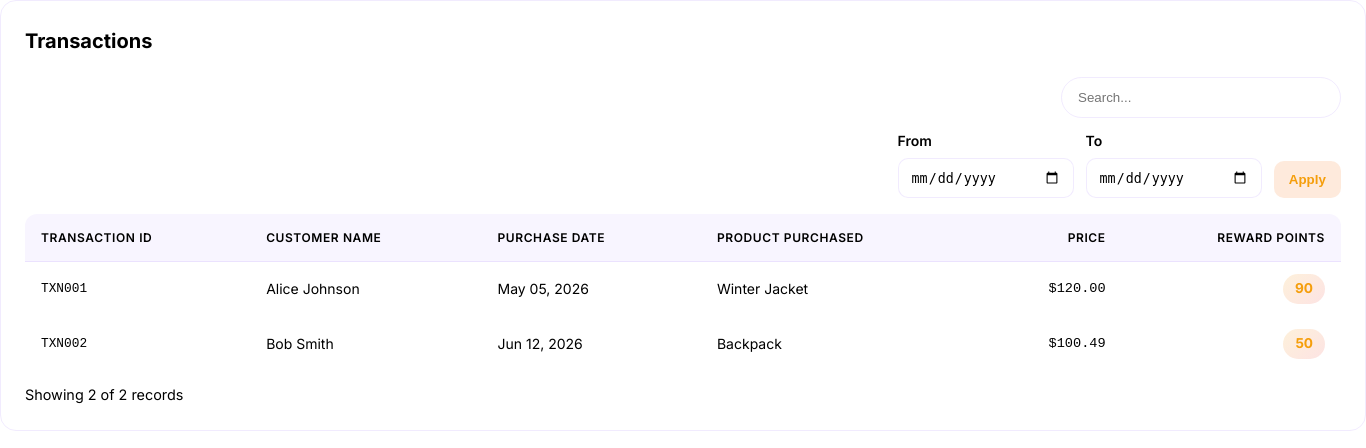
Test: TransactionsTable › clears the selected date range and restores all transactions
Type "2026-05-01" into the date field named "from date".
click(986, 178); type("2026-05-01")  # box [898, 158, 1074, 198]
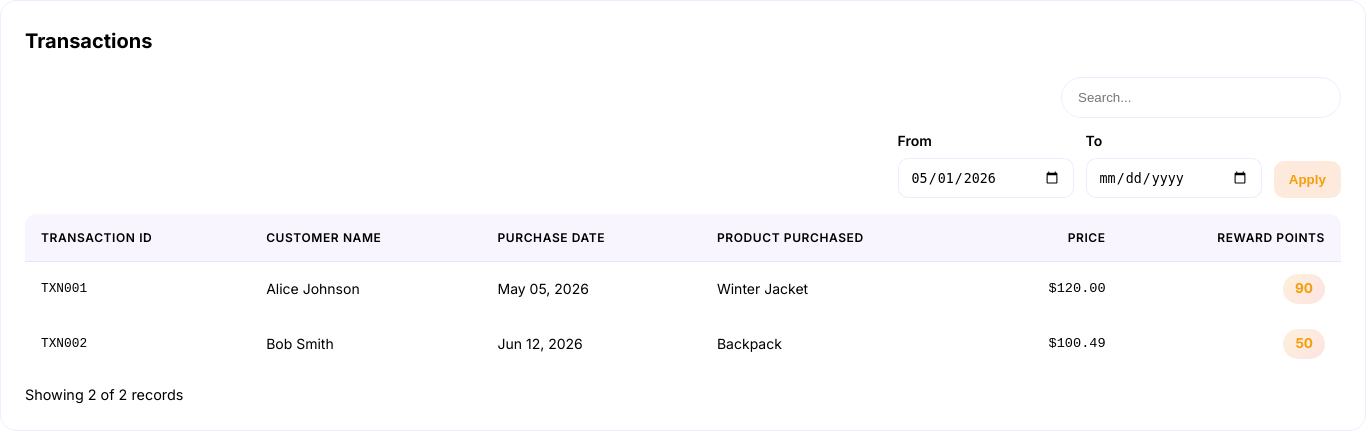
Type "2026-05-31" into the date field named "to date".
click(1174, 178); type("2026-05-31")  # box [1086, 158, 1262, 198]
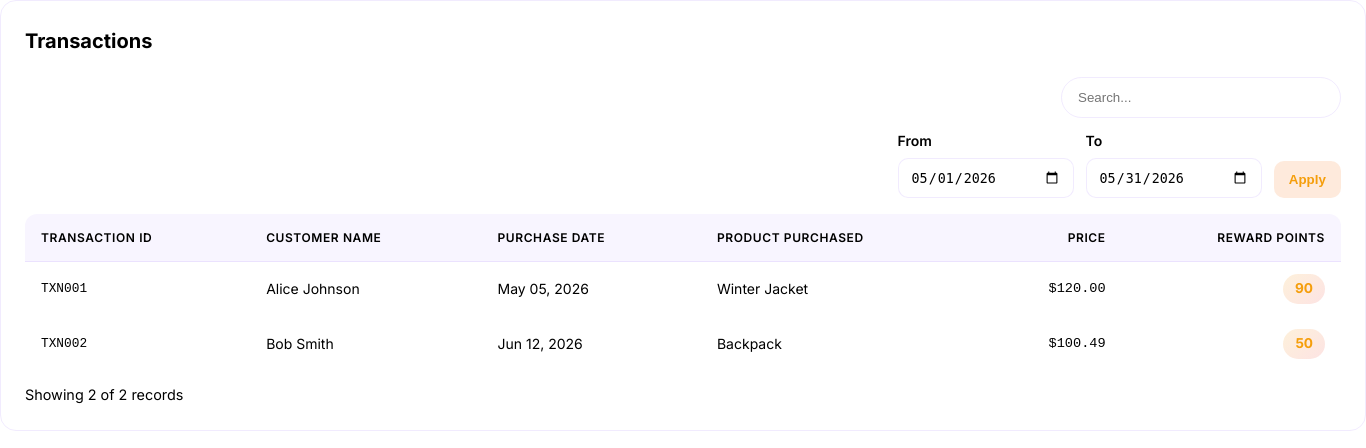
Click the button "Apply".
click(1307, 179)  # box [1274, 161, 1341, 198]
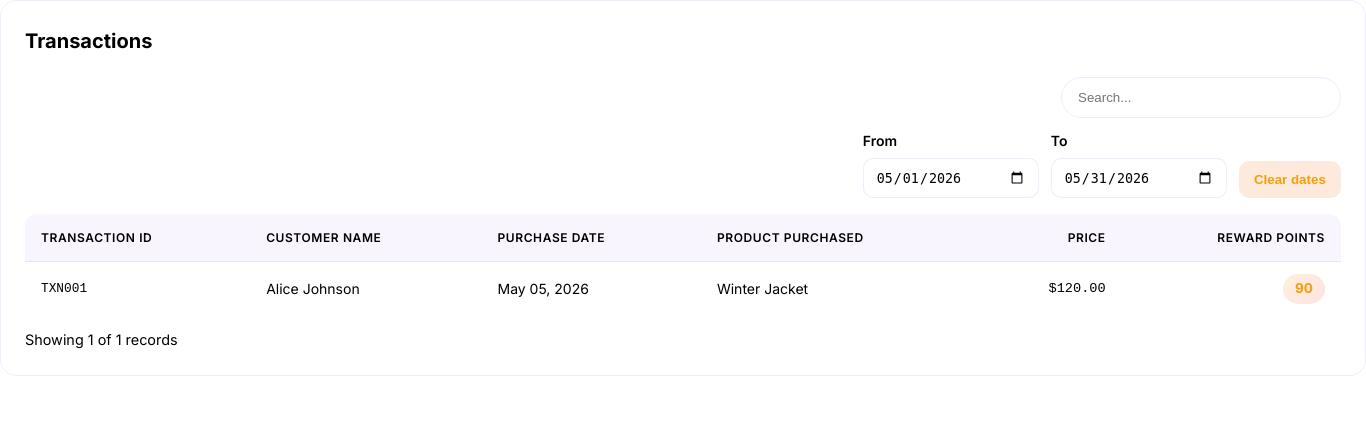
Click the button "Clear dates".
click(1290, 179)  # box [1239, 161, 1341, 198]
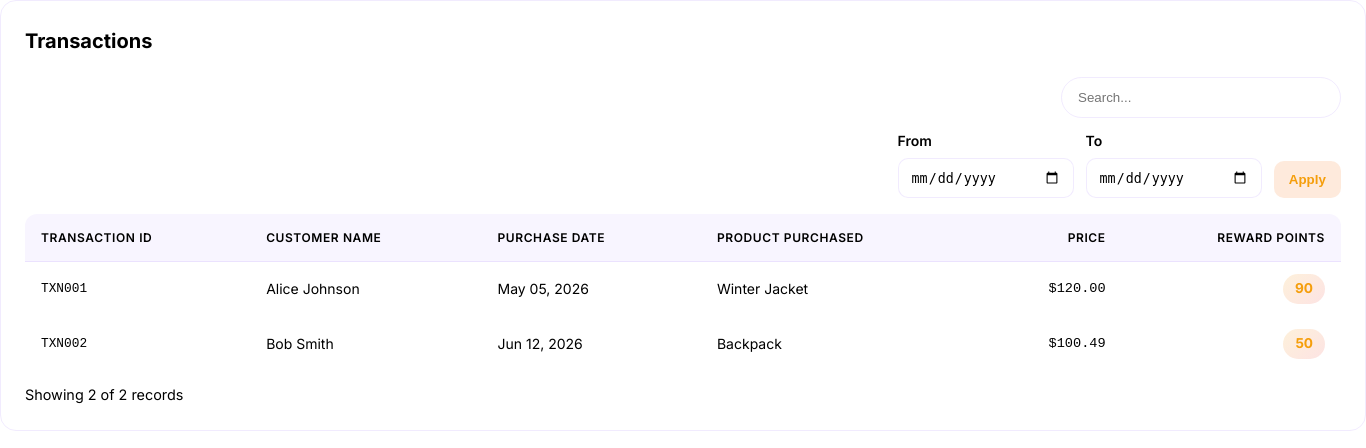
Now the date field named "from date" is empty, box [898, 158, 1074, 198]
Now the date field named "to date" is empty, box [1086, 158, 1262, 198]
Now the text "TXN002" is shown, box [25, 317, 250, 371]
